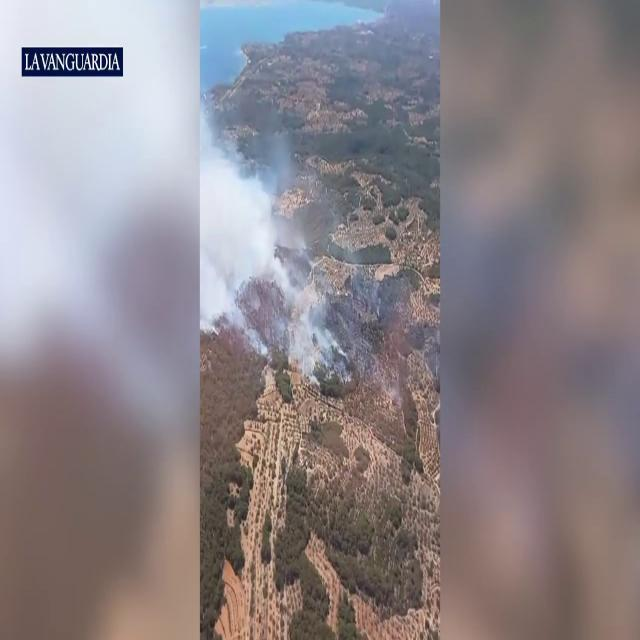Smoke: (200, 75, 306, 337), (281, 268, 347, 385)
